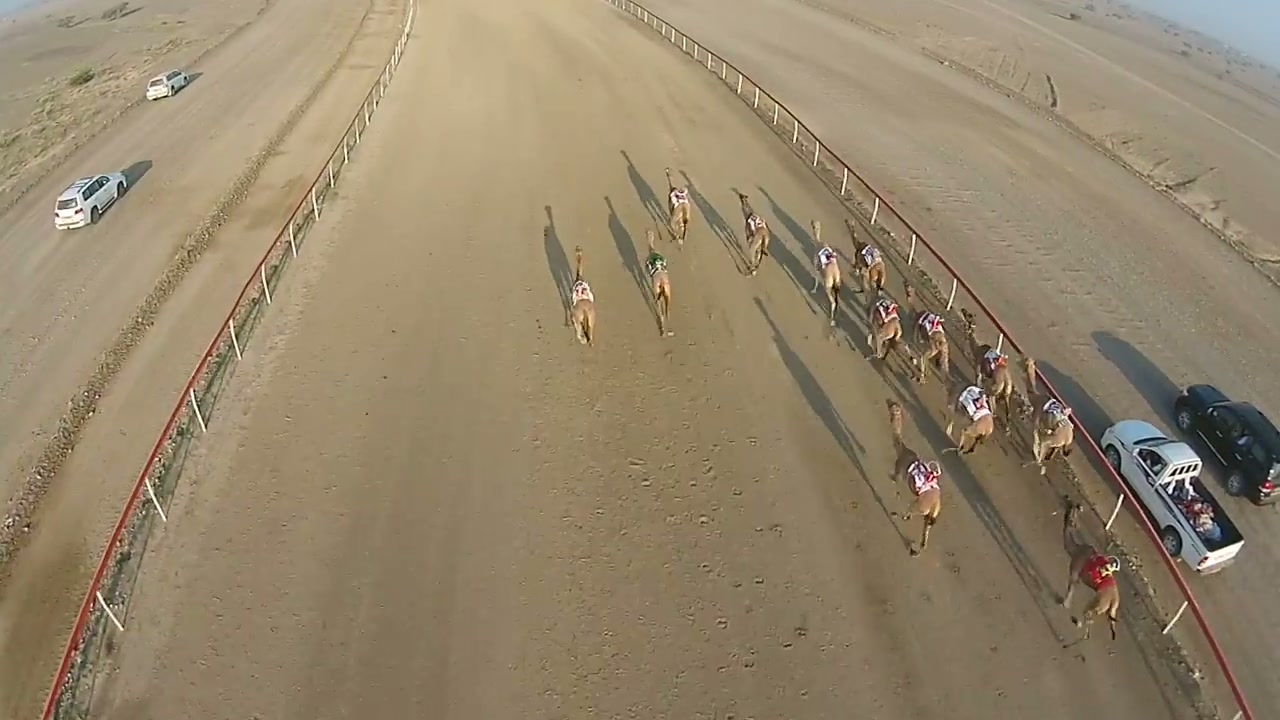animal_footprint: (571, 328, 817, 708)
